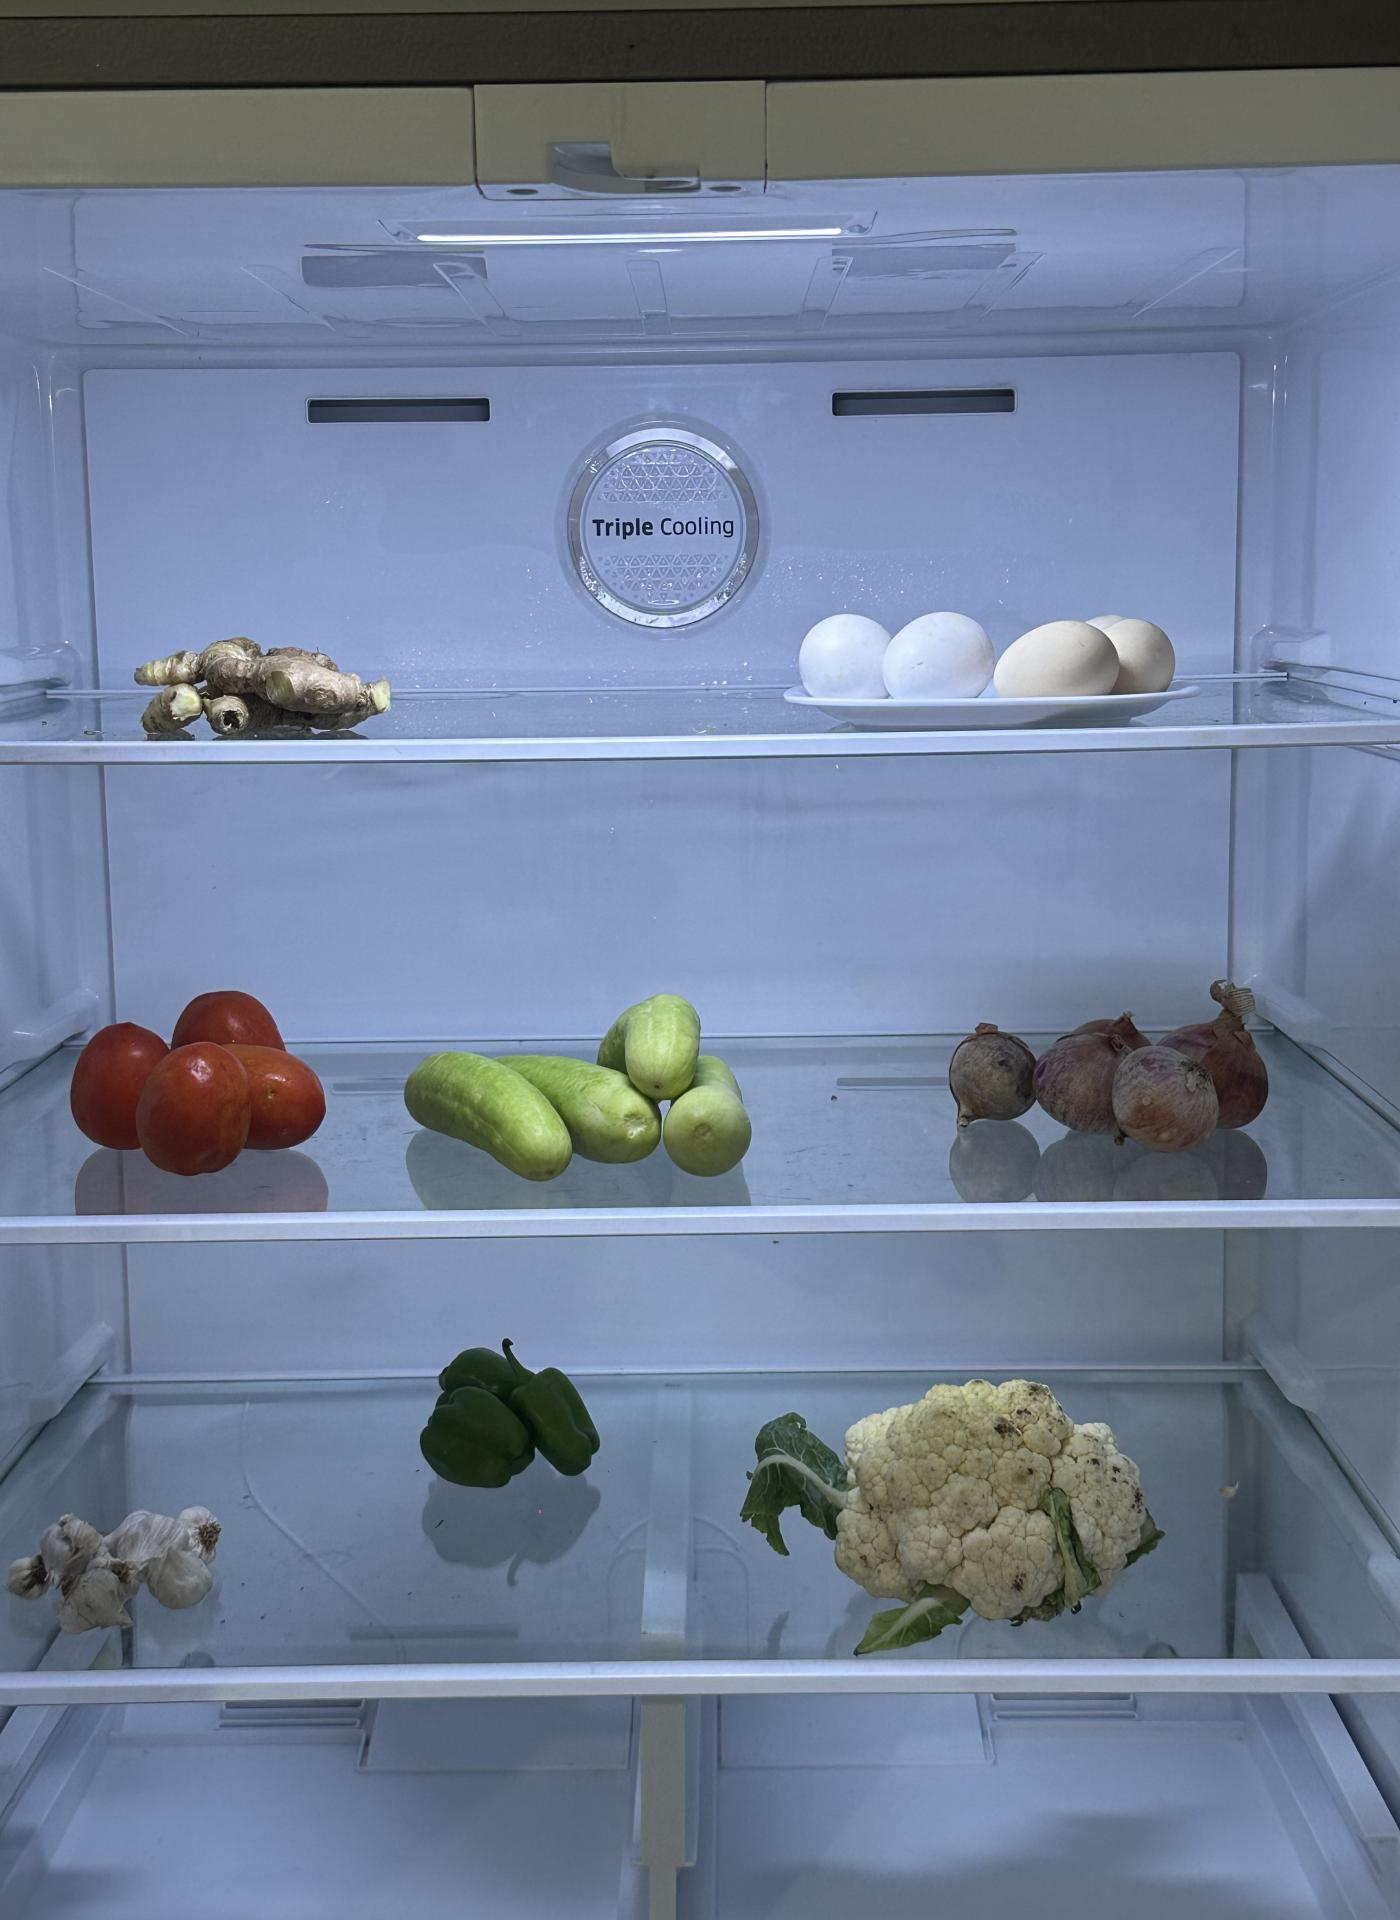capsicum: (414, 1343, 598, 1494)
cauliflower: (827, 1373, 1154, 1619)
cucumber: (407, 1008, 772, 1197)
egg: (802, 587, 1182, 724)
garlic: (12, 1503, 228, 1646)
ginger: (128, 626, 392, 741)
onion: (941, 1006, 1273, 1151)
tomato: (73, 982, 334, 1178)
